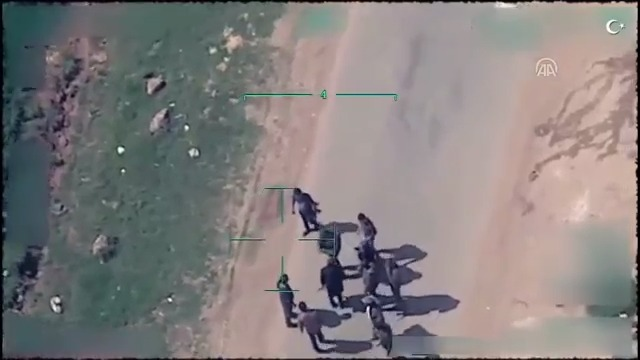insan: (316, 253, 353, 313), (287, 182, 325, 239), (299, 299, 333, 356), (266, 272, 298, 331), (355, 209, 380, 248)
